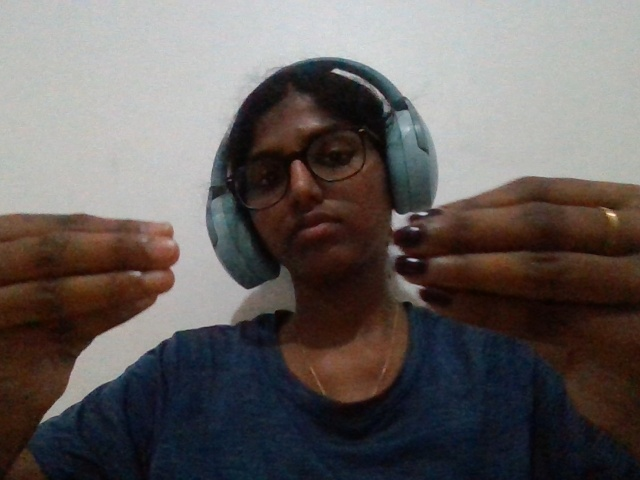More: (3, 175, 640, 438)
